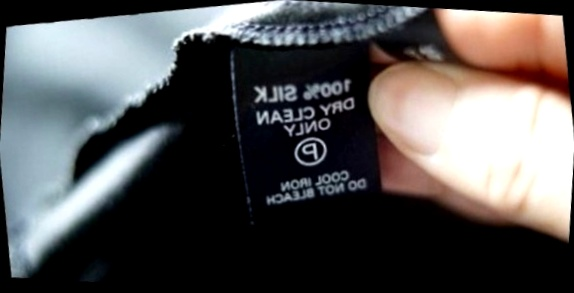dry_clean_any_solvent_except_trichloroethylene: (288, 131, 331, 171)
